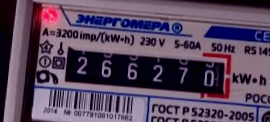0: (200, 68, 216, 89)
2: (74, 55, 89, 77), (151, 63, 165, 84)
6: (99, 58, 112, 80), (125, 61, 139, 81)
7: (177, 66, 188, 85)
screen: (52, 36, 239, 106)
